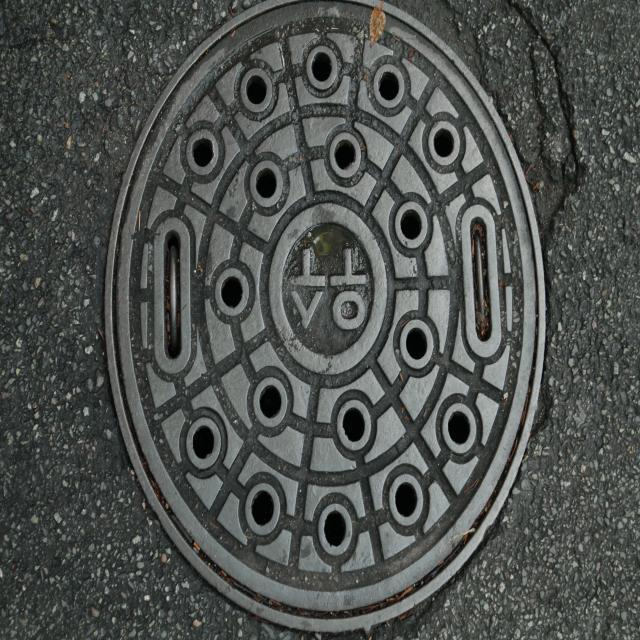manhole: (101, 2, 549, 636)
